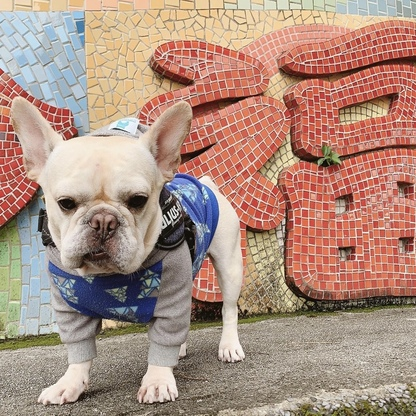bulldog: (7, 94, 248, 407)
